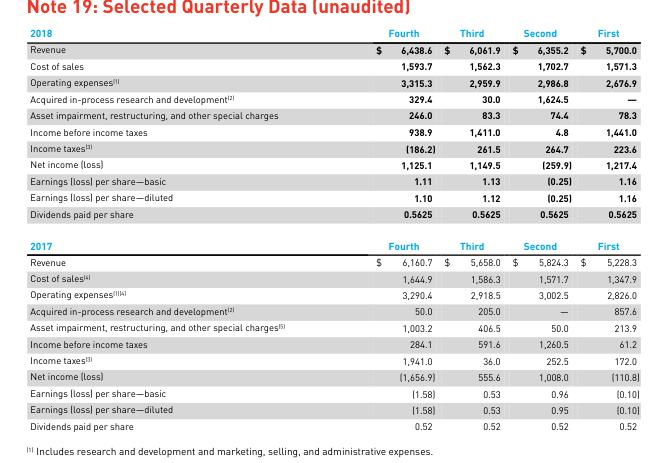table: (29, 28, 638, 431)
table column: (29, 28, 329, 431), (329, 28, 439, 431), (505, 28, 575, 431), (439, 28, 505, 431), (575, 28, 638, 431)
table column header: (29, 28, 638, 42)
table row: (29, 206, 638, 230), (29, 230, 638, 254), (29, 74, 638, 91), (29, 123, 638, 140), (29, 156, 638, 173), (29, 189, 638, 206), (29, 286, 638, 303), (29, 319, 638, 336), (29, 352, 638, 369), (29, 401, 638, 418), (29, 42, 638, 58), (29, 58, 638, 74), (29, 91, 638, 107), (29, 107, 638, 123), (29, 140, 638, 156), (29, 173, 638, 189), (29, 254, 638, 270), (29, 270, 638, 286), (29, 303, 638, 319), (29, 336, 638, 352), (29, 369, 638, 385), (29, 385, 638, 401), (29, 28, 638, 42), (29, 418, 638, 431)
